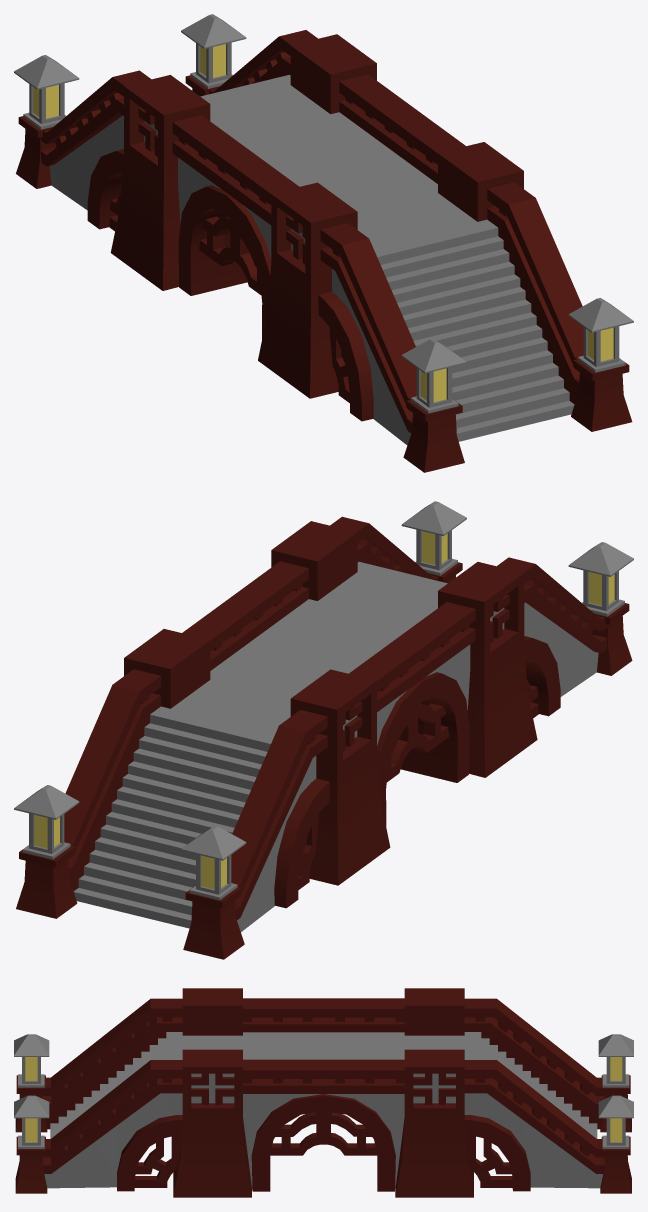
File: bridge2.fbx
The picture shows the model from 3 angles, top to bottom: view 1: azimuth 30°, elevation 25°; view 2: azimuth 150°, elevation 25°; view 3: azimuth 270°, elevation 25°; orthographic projection. The views are drawn at different scales.
Visible parts, largest first — view 1: bridge2; view 2: bridge2; view 3: bridge2.
Part boxes in pixels (x1,y1,x2,y2): bridge2: (14, 14, 633, 472); bridge2: (14, 501, 633, 959); bridge2: (14, 988, 633, 1197).
Bounding box in the file's own units: 499 × 356 × 1561.
